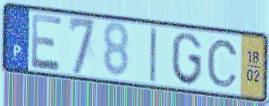7: (67, 14, 97, 78)
8: (101, 21, 133, 81)
C: (205, 38, 240, 89)
E: (30, 11, 65, 73)
G: (171, 31, 204, 88)
I: (148, 26, 159, 86)
